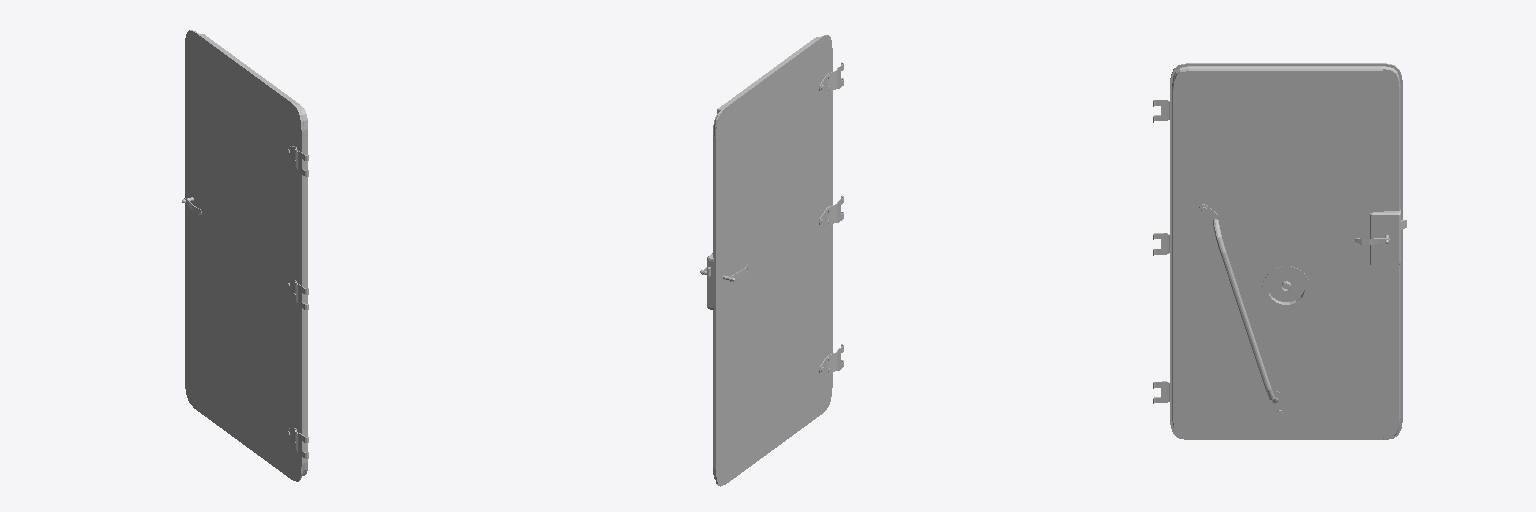
File: rightside_door.obj
The picture shows the model from 3 angles: view 1: azimuth 30°, elevation 25°; view 2: azimuth 150°, elevation 25°; view 3: azimuth 270°, elevation 25°; orthographic projection.
Parts seen in each view (by area): view 1: Box241_Untitled.333; view 2: Box241_Untitled.333; view 3: Box241_Untitled.333.
Boxes of the visible parts, <box> form: Box241_Untitled.333: <box>182,30,308,481</box>; Box241_Untitled.333: <box>700,35,843,486</box>; Box241_Untitled.333: <box>1153,63,1406,439</box>.
Bounding box in the file's own units: 0.1606 × 1.41 × 0.8601.